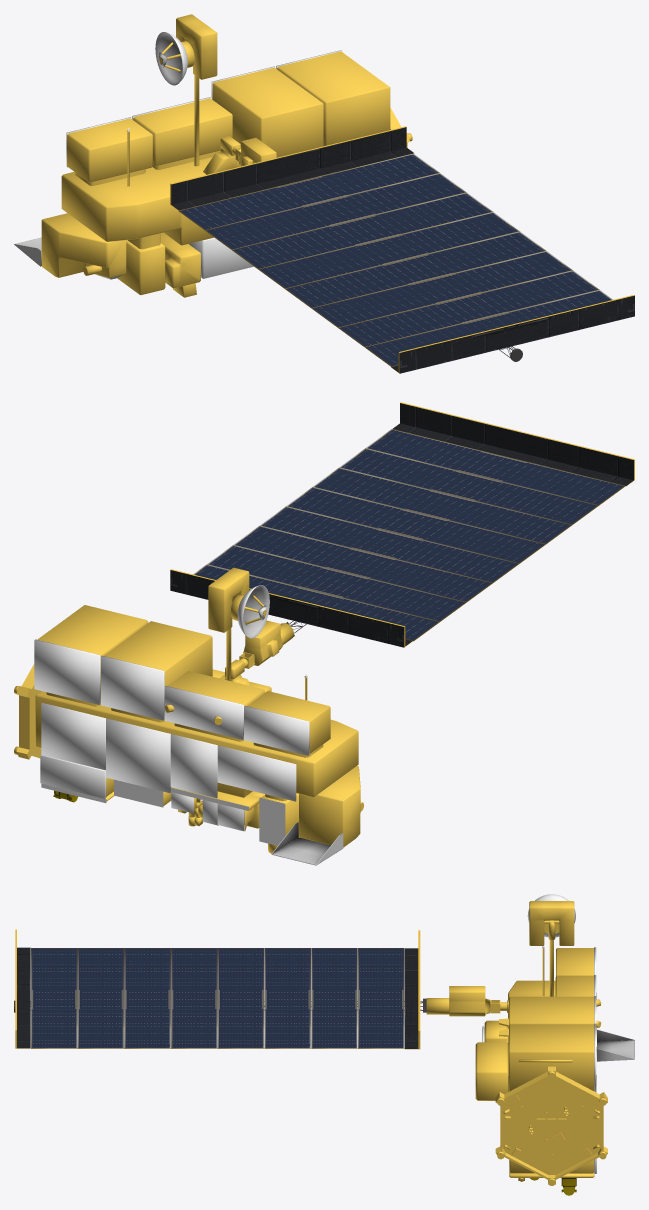
File: Terra.glb
3 renders of one model, top to bottom at view 1: azimuth 30°, elevation 25°; view 2: azimuth 150°, elevation 25°; view 3: azimuth 270°, elevation 25°, orthographic. The views are drawn at different scales.
Visible parts, largest first — view 1: Solar_Panel_Assembly, BUS, Dish_Top_Base, Dish_Top, Solar_Panel_Base; view 2: Solar_Panel_Assembly, BUS, Dish_Top_Base, Dish_Top; view 3: Solar_Panel_Assembly, BUS, Dish_Top_Base.
Part boxes in pixels (left/top/right/bottom): Solar_Panel_Assembly: left=170, top=126, right=634, bottom=373; BUS: left=14, top=50, right=412, bottom=297; Dish_Top_Base: left=176, top=14, right=217, bottom=166; Dish_Top: left=155, top=32, right=194, bottom=85; Solar_Panel_Base: left=203, top=136, right=240, bottom=174; Solar_Panel_Assembly: left=170, top=402, right=634, bottom=668; BUS: left=14, top=605, right=363, bottom=865; Dish_Top_Base: left=208, top=567, right=249, bottom=680; Dish_Top: left=230, top=585, right=269, bottom=638; Solar_Panel_Assembly: left=14, top=929, right=506, bottom=1049; BUS: left=475, top=946, right=634, bottom=1195; Dish_Top_Base: left=529, top=901, right=574, bottom=996.
Bounding box in the file's own units: 6.86 × 5.18 × 13.13.
9 materials, 4 textured.
